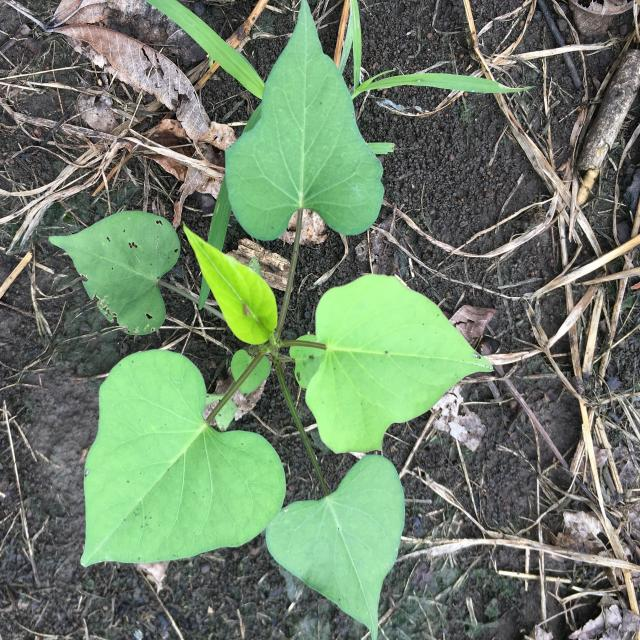MorningGlory: (49, 0, 494, 640)
